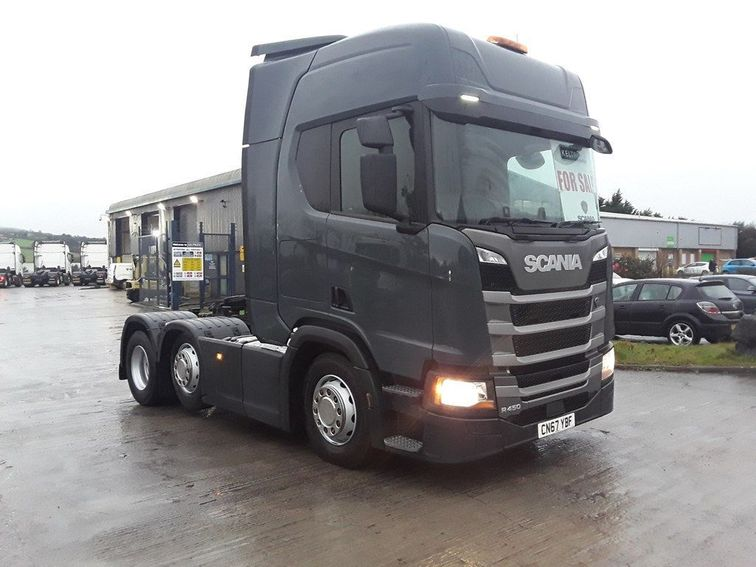Car: (612, 272, 741, 345)
Semi: (118, 24, 614, 465)
